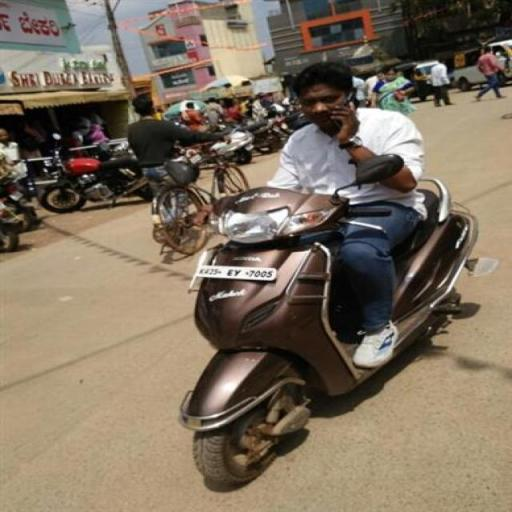using mobile: (330, 78, 375, 136)
